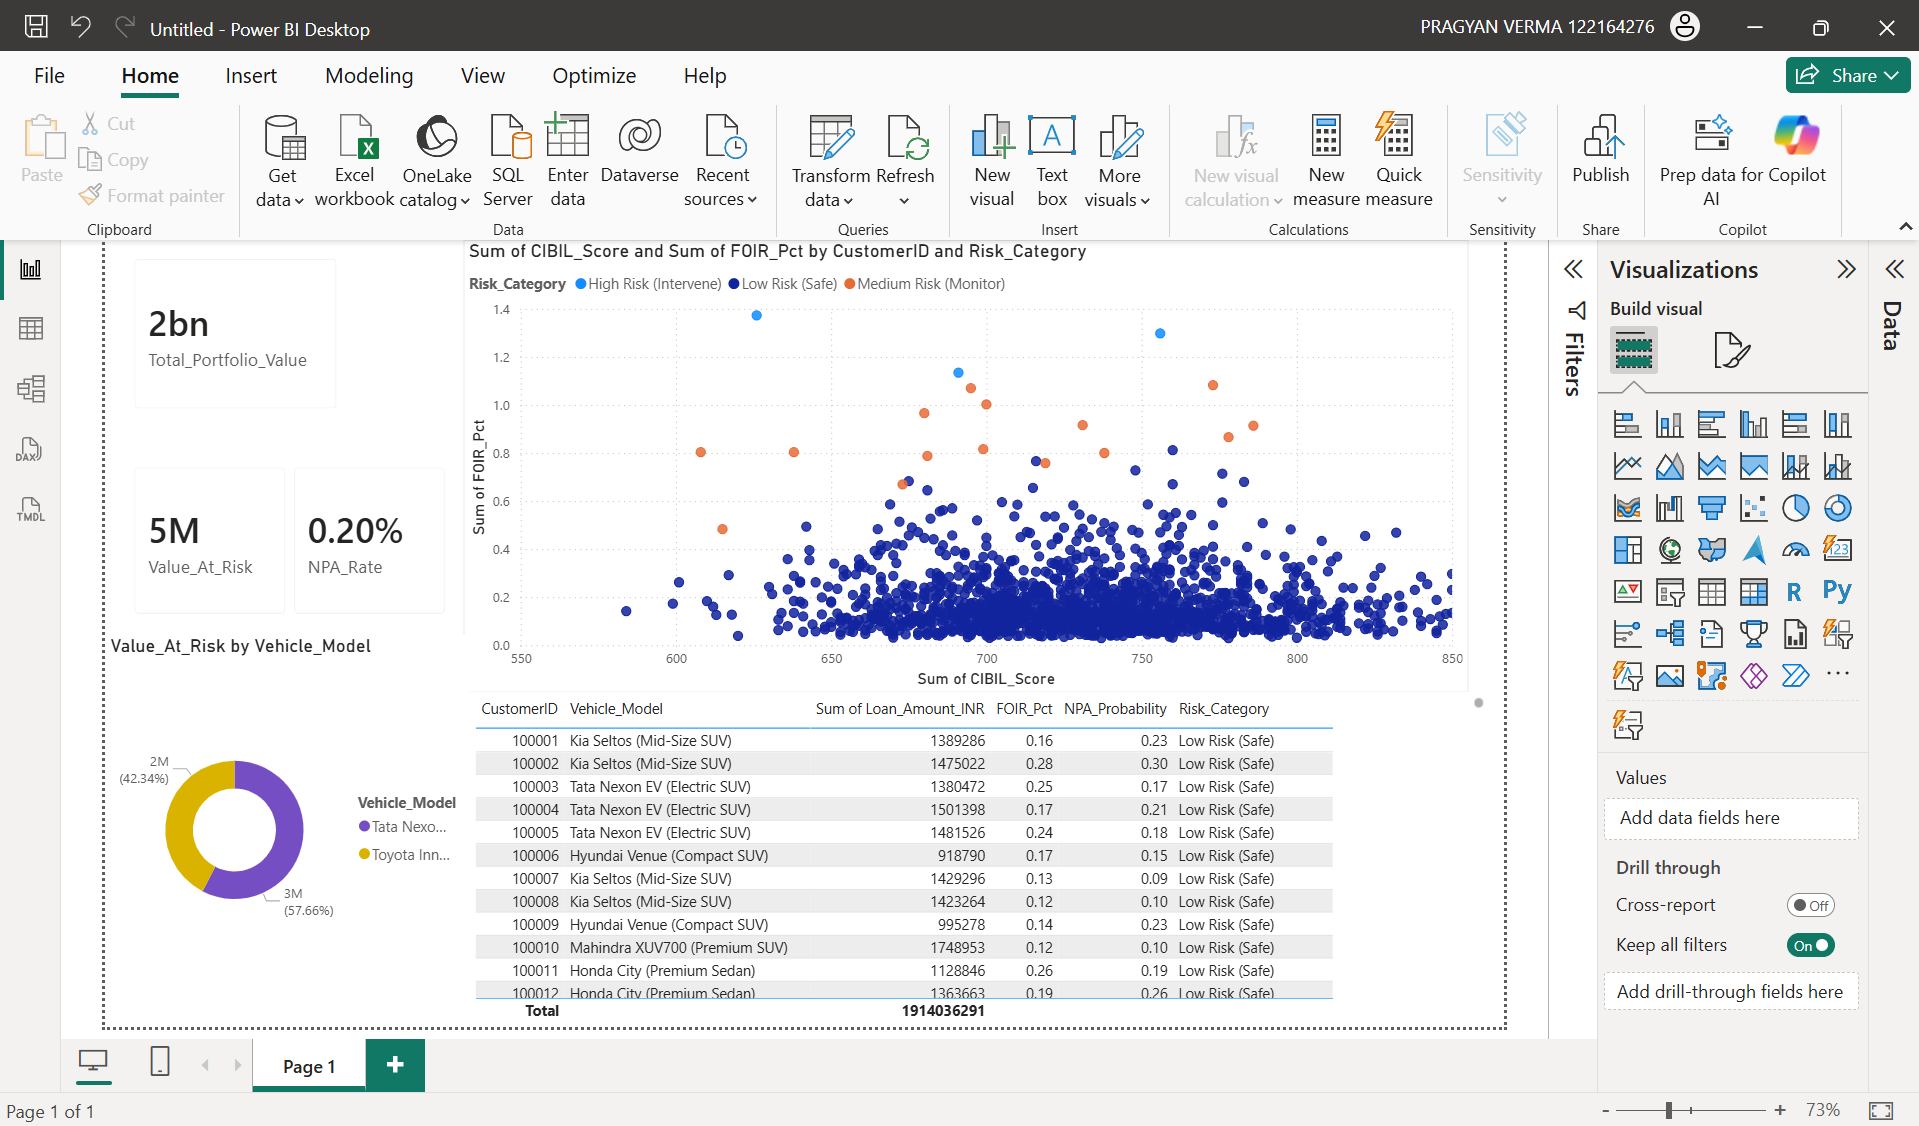

What the dashboard file says about the page in this screenshot:
{"tool":"powerbi","page":{"name":"Page 1","canvas":[1280,720],"ordinal":0},"visuals":[{"type":"cardVisual","fields":{"Data":["nbfc_master_portfolio.Total_Portfolio_Value"]},"box":[9.1,0,334.6,207.4],"z":0},{"type":"cardVisual","fields":{"Data":["nbfc_master_portfolio.Value_At_Risk","nbfc_master_portfolio.NPA_Rate"]},"box":[9.1,207.4,442.1,151.4],"z":1},{"type":"scatterChart","fields":{"Y":["Sum(nbfc_master_portfolio.FOIR_Pct)"],"Series":["nbfc_master_portfolio.Risk_Category"],"X":["Sum(nbfc_master_portfolio.CIBIL_Score)"],"Category":["nbfc_master_portfolio.CustomerID"]},"box":[441.9,0,837.1,413.1],"z":2},{"type":"donutChart","fields":{"Category":["nbfc_master_portfolio.Vehicle_Model"],"Y":["nbfc_master_portfolio.Value_At_Risk"]},"box":[0,437.6,475.5,260.4],"z":3},{"type":"tableEx","fields":{"Values":["nbfc_master_portfolio.CustomerID","nbfc_master_portfolio.Vehicle_Model","Sum(nbfc_master_portfolio.Loan_Amount_INR)","nbfc_master_portfolio.FOIR_Pct","nbfc_master_portfolio.NPA_Probability","nbfc_master_portfolio.Risk_Category"]},"box":[474.8,413.1,804.2,307.4],"z":4}]}

Visuals, with their boxes on the page's 1280x720 design canvas (x1, y1, x2, y2). These are canvas units, not pixel positions in the 1919x1126 screenshot, which may show the page scaled, cropped or inside an application window:
cardVisual - nbfc_master_portfolio.Total_Portfolio_Value: 9/0/344/207
cardVisual - nbfc_master_portfolio.Value_At_Risk x nbfc_master_portfolio.NPA_Rate: 9/207/451/359
scatterChart - Sum(nbfc_master_portfolio.FOIR_Pct) x nbfc_master_portfolio.Risk_Category: 442/0/1279/413
donutChart - nbfc_master_portfolio.Vehicle_Model x nbfc_master_portfolio.Value_At_Risk: 0/438/476/698
tableEx - nbfc_master_portfolio.CustomerID x nbfc_master_portfolio.Vehicle_Model: 475/413/1279/720
